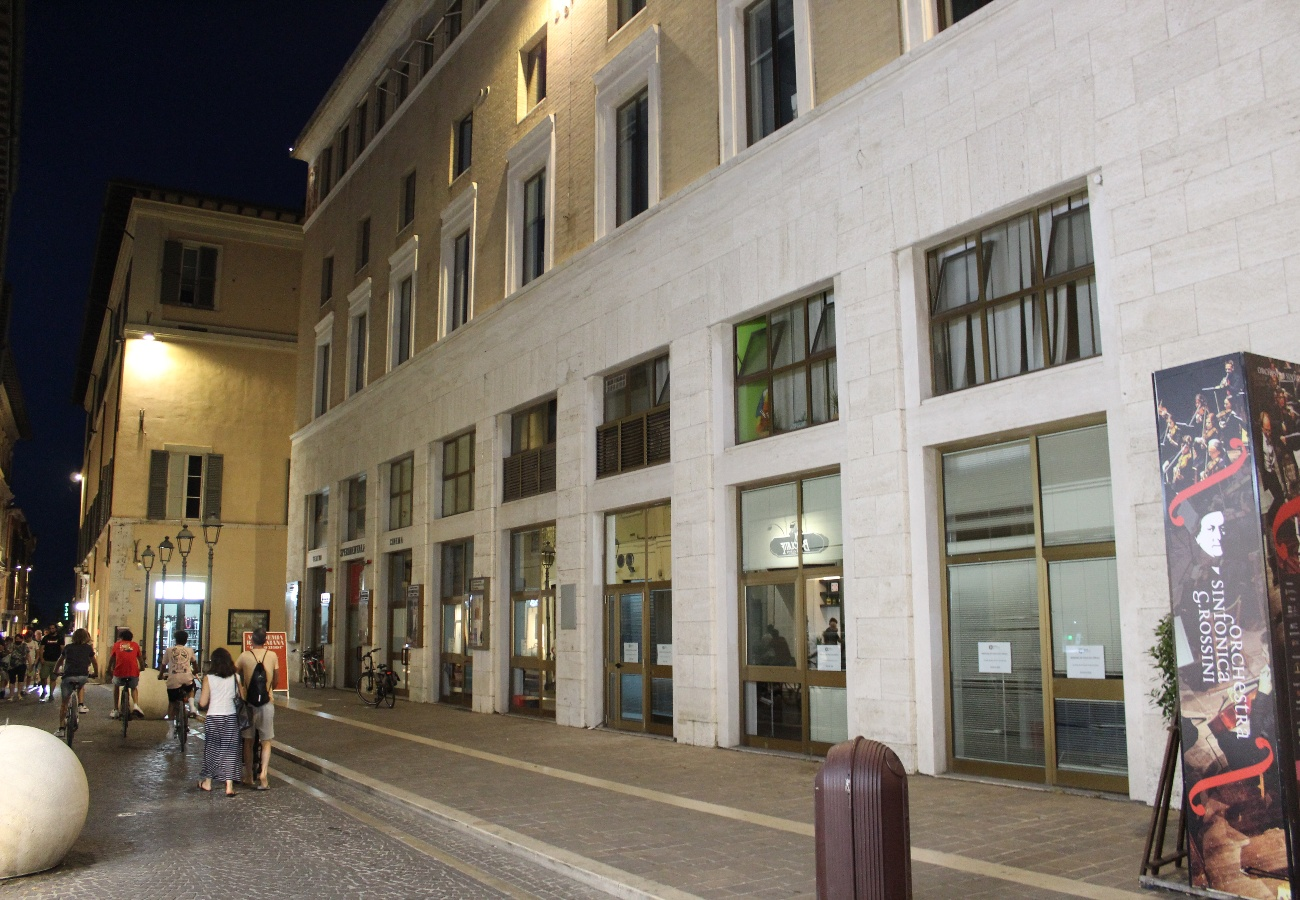Teatro Sperimentale: (277, 1, 1154, 813)
